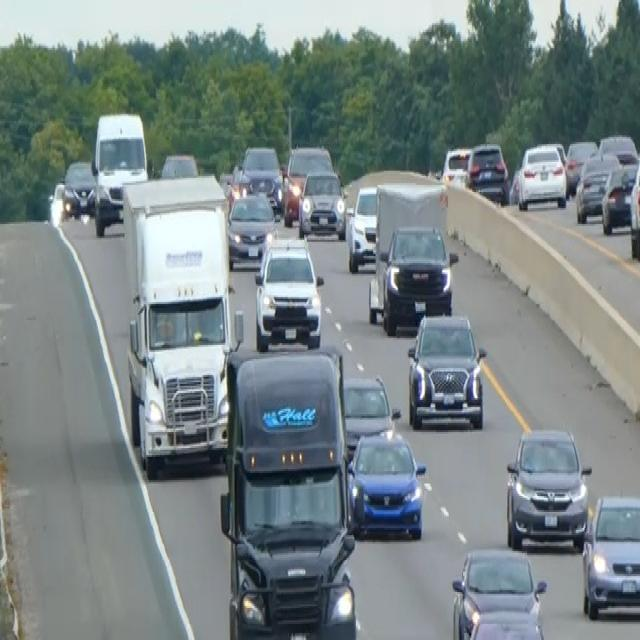car: (504, 423, 591, 551), (406, 310, 487, 430), (450, 542, 548, 638), (346, 426, 426, 540), (380, 222, 456, 334), (253, 233, 324, 350), (581, 490, 639, 620), (341, 372, 399, 455), (282, 142, 332, 224), (227, 189, 276, 263), (516, 140, 567, 210), (297, 167, 346, 238), (238, 142, 283, 215), (574, 150, 619, 222), (346, 183, 379, 272), (465, 140, 509, 204), (600, 160, 636, 233), (62, 158, 95, 215), (564, 137, 597, 194), (48, 178, 80, 226), (597, 132, 638, 166), (441, 144, 471, 185), (628, 153, 639, 259), (159, 149, 198, 178)
lorry: (219, 343, 358, 638), (119, 173, 239, 477)
